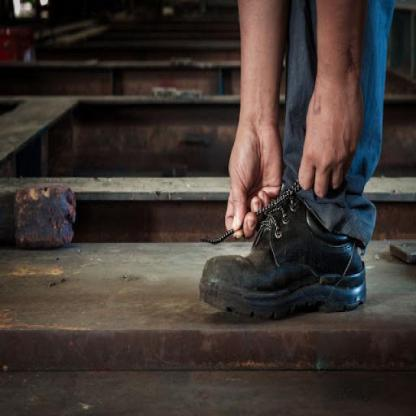bota: (196, 187, 370, 321)
